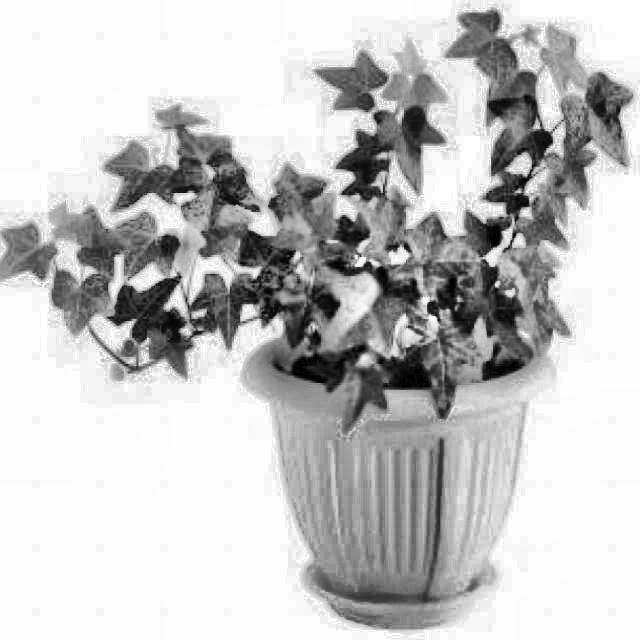plants: (117, 58, 640, 345)
